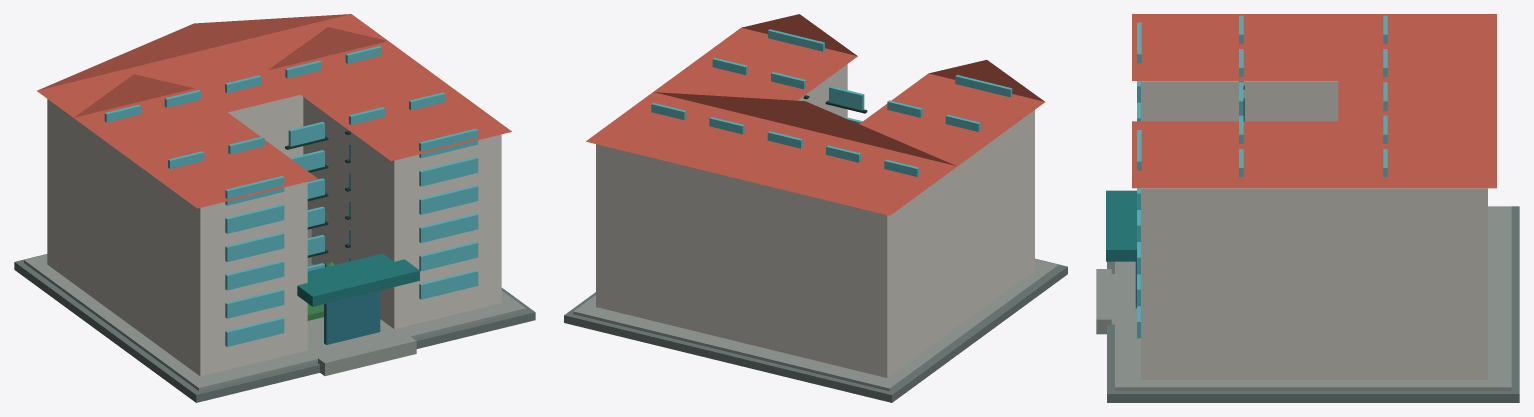
File: university_lv2.glb
3 views of the same model, side by side, from view 1: azimuth 30°, elevation 25°; view 2: azimuth 150°, elevation 25°; view 3: azimuth 270°, elevation 25° (orthographic). The views are drawn at different scales.
Parts seen in each view (by area): view 1: rough, glossy; view 2: rough, glossy; view 3: rough, glossy.
Boxes of the visible parts, x1=… form: rough: x1=14, y1=14, x2=535, y2=402; glossy: x1=104, y1=46, x2=478, y2=346; rough: x1=564, y1=14, x2=1067, y2=402; glossy: x1=651, y1=29, x2=1012, y2=176; rough: x1=1096, y1=14, x2=1519, y2=402; glossy: x1=1135, y1=15, x2=1387, y2=338.
Bounding box in the file's own units: 9.8 × 5.86 × 9.34.
